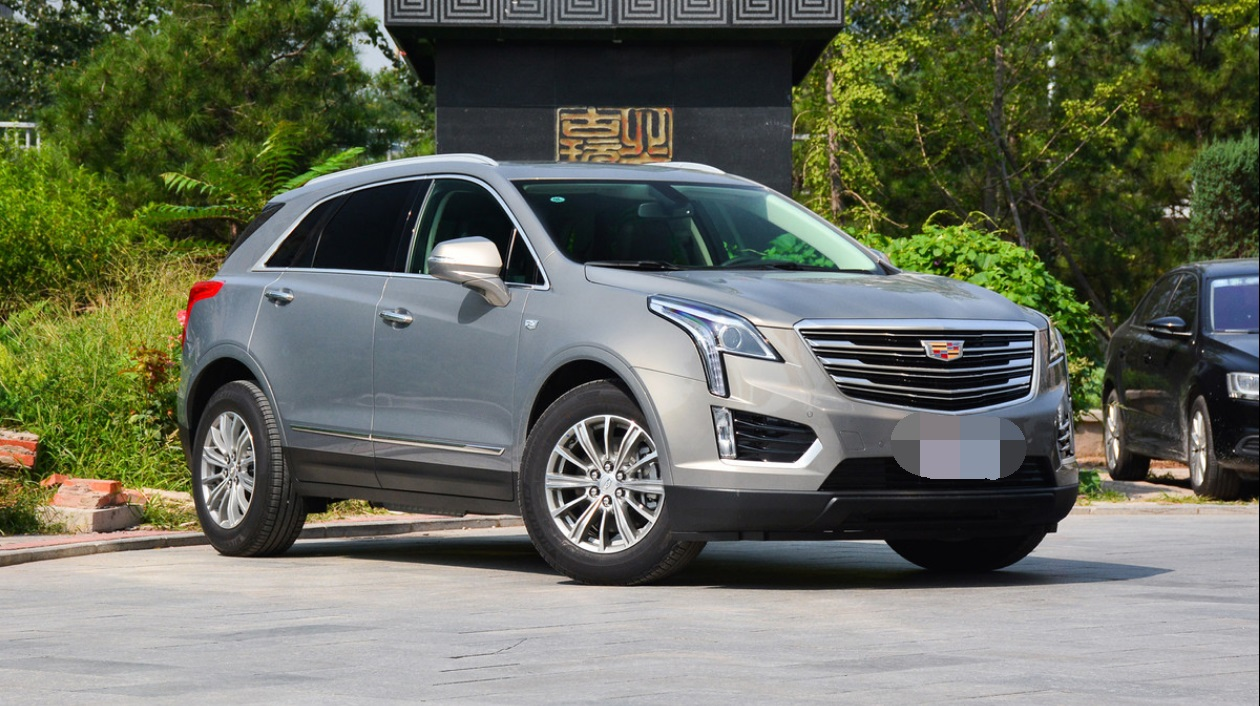SUV: (173, 146, 1082, 588)
